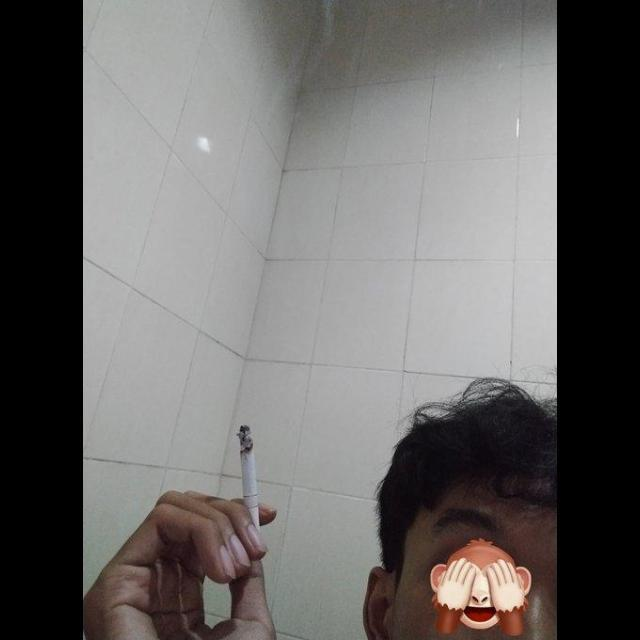rokok: (238, 422, 260, 526)
